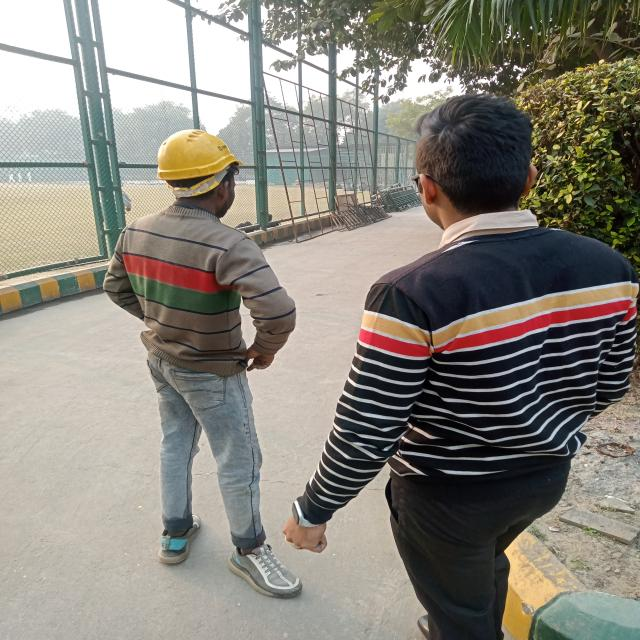no jacket: (108, 129, 314, 603)
unsafe: (288, 95, 640, 640)
